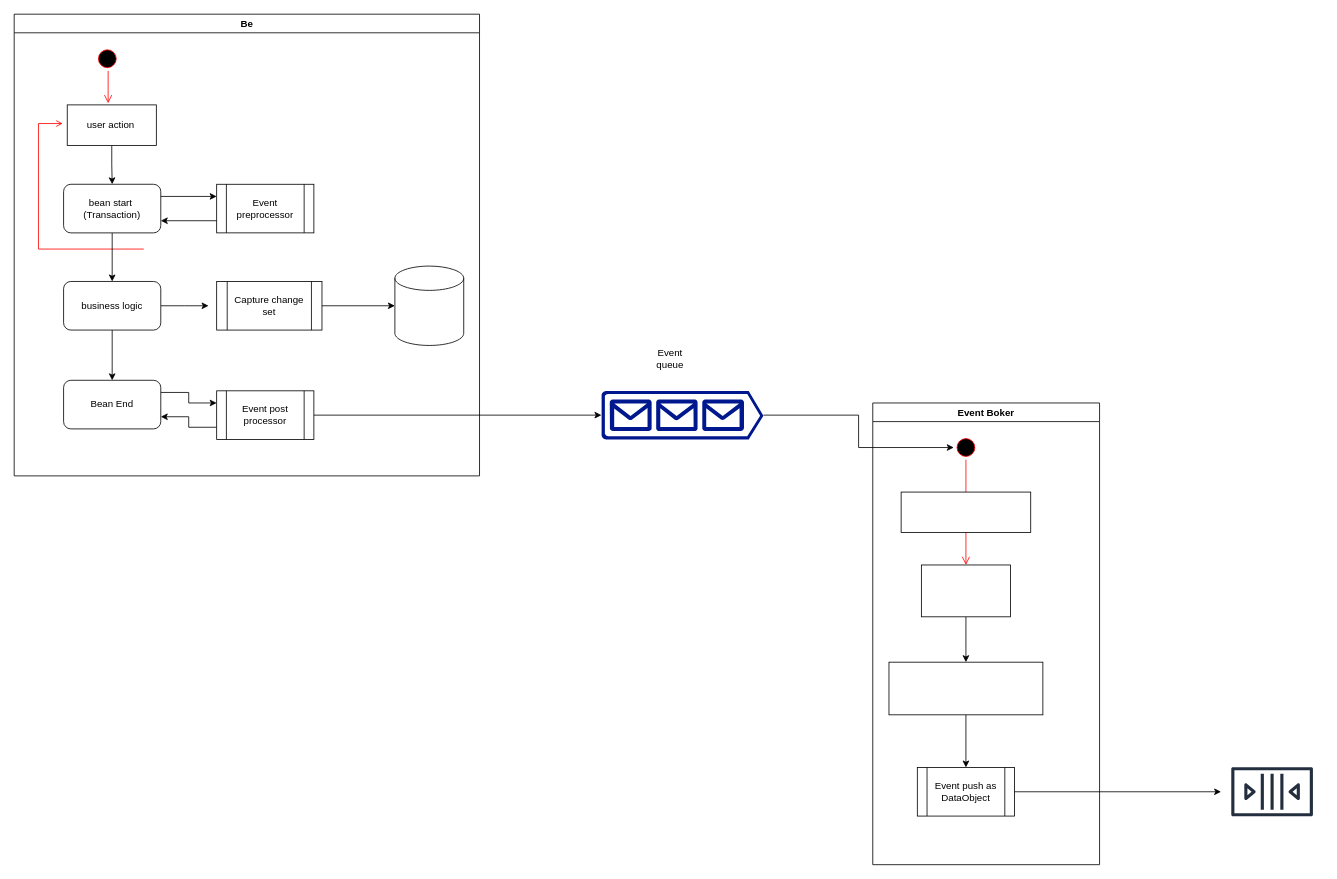
The diagram is 1337 pixels wide and 879 high, and some of its shapes have lost their labels. The shapes that lost their labels are listed below. From the top down, each one's centre as x and y in pixels, then its label:
At (x=429, y=305): "DB".
At (x=965, y=512): "check for previous event (Fail safe)".
At (x=965, y=590): "Event".
At (x=965, y=688): "Event state reconstruction".
At (x=1271, y=791): "Queue".
